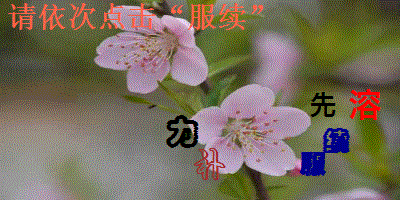result: (187, 3, 248, 32)
text: (164, 114, 200, 150), (193, 147, 225, 182), (349, 89, 382, 121), (321, 126, 352, 155), (309, 90, 336, 120), (298, 150, 327, 177)
